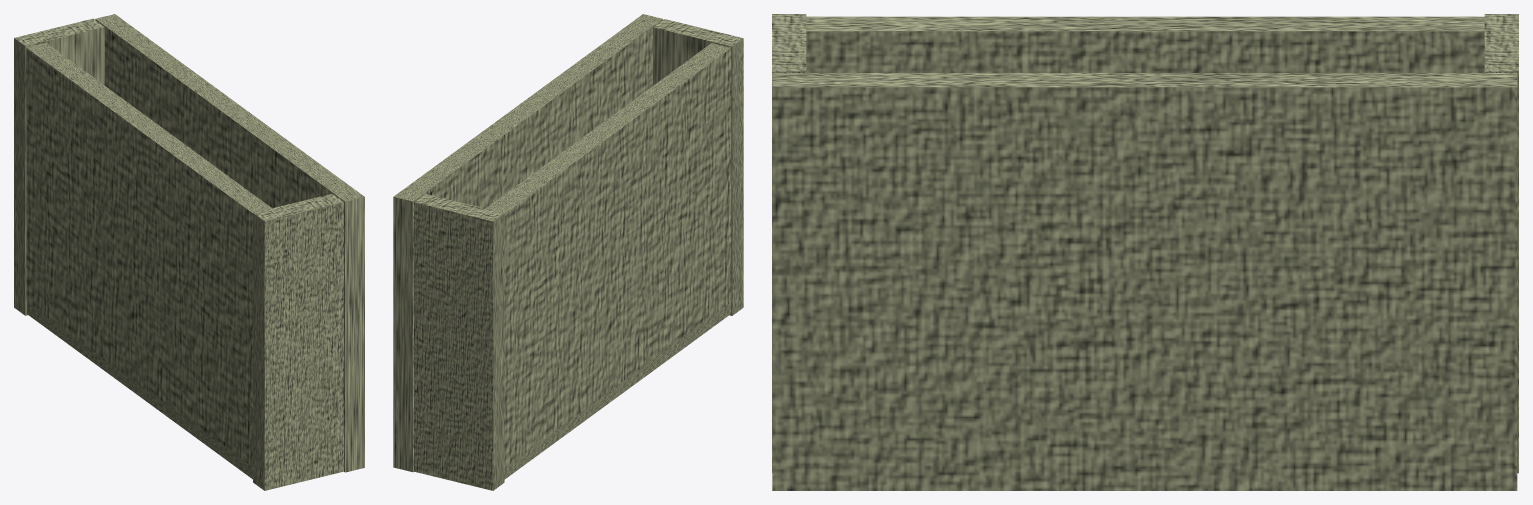
File: CardAgeEnvelopeBottom.fbx
The picture shows the model from 3 angles, left to right: view 1: azimuth 30°, elevation 25°; view 2: azimuth 150°, elevation 25°; view 3: azimuth 270°, elevation 25°; orthographic projection. The views are drawn at different scales.
Parts seen in each view (by area): view 1: pCube4, pCube5, pCube2, pCube1, pCube3; view 2: pCube4, pCube1, pCube2, pCube5, pCube3; view 3: pCube2, pCube4, pCube1, pCube5.
Boxes of the visible parts, x1,y1,x2,y2 form: pCube4: [26, 43, 271, 467]; pCube5: [253, 193, 343, 490]; pCube2: [95, 14, 364, 472]; pCube1: [14, 18, 104, 315]; pCube3: [26, 302, 252, 479]; pCube4: [486, 43, 731, 467]; pCube1: [414, 194, 504, 490]; pCube2: [393, 14, 662, 472]; pCube5: [653, 19, 743, 315]; pCube3: [504, 302, 730, 479]; pCube2: [772, 73, 1517, 490]; pCube4: [806, 16, 1484, 72]; pCube1: [1484, 14, 1518, 473]; pCube5: [772, 14, 806, 472].
Bounding box in the file's own units: 0.5071 × 1.31 × 2.19.
